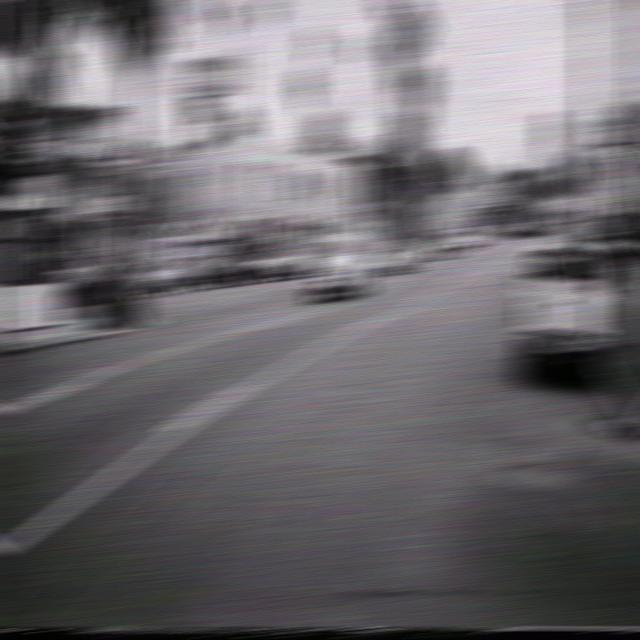pedestrianCrossing: (568, 189, 596, 219)
